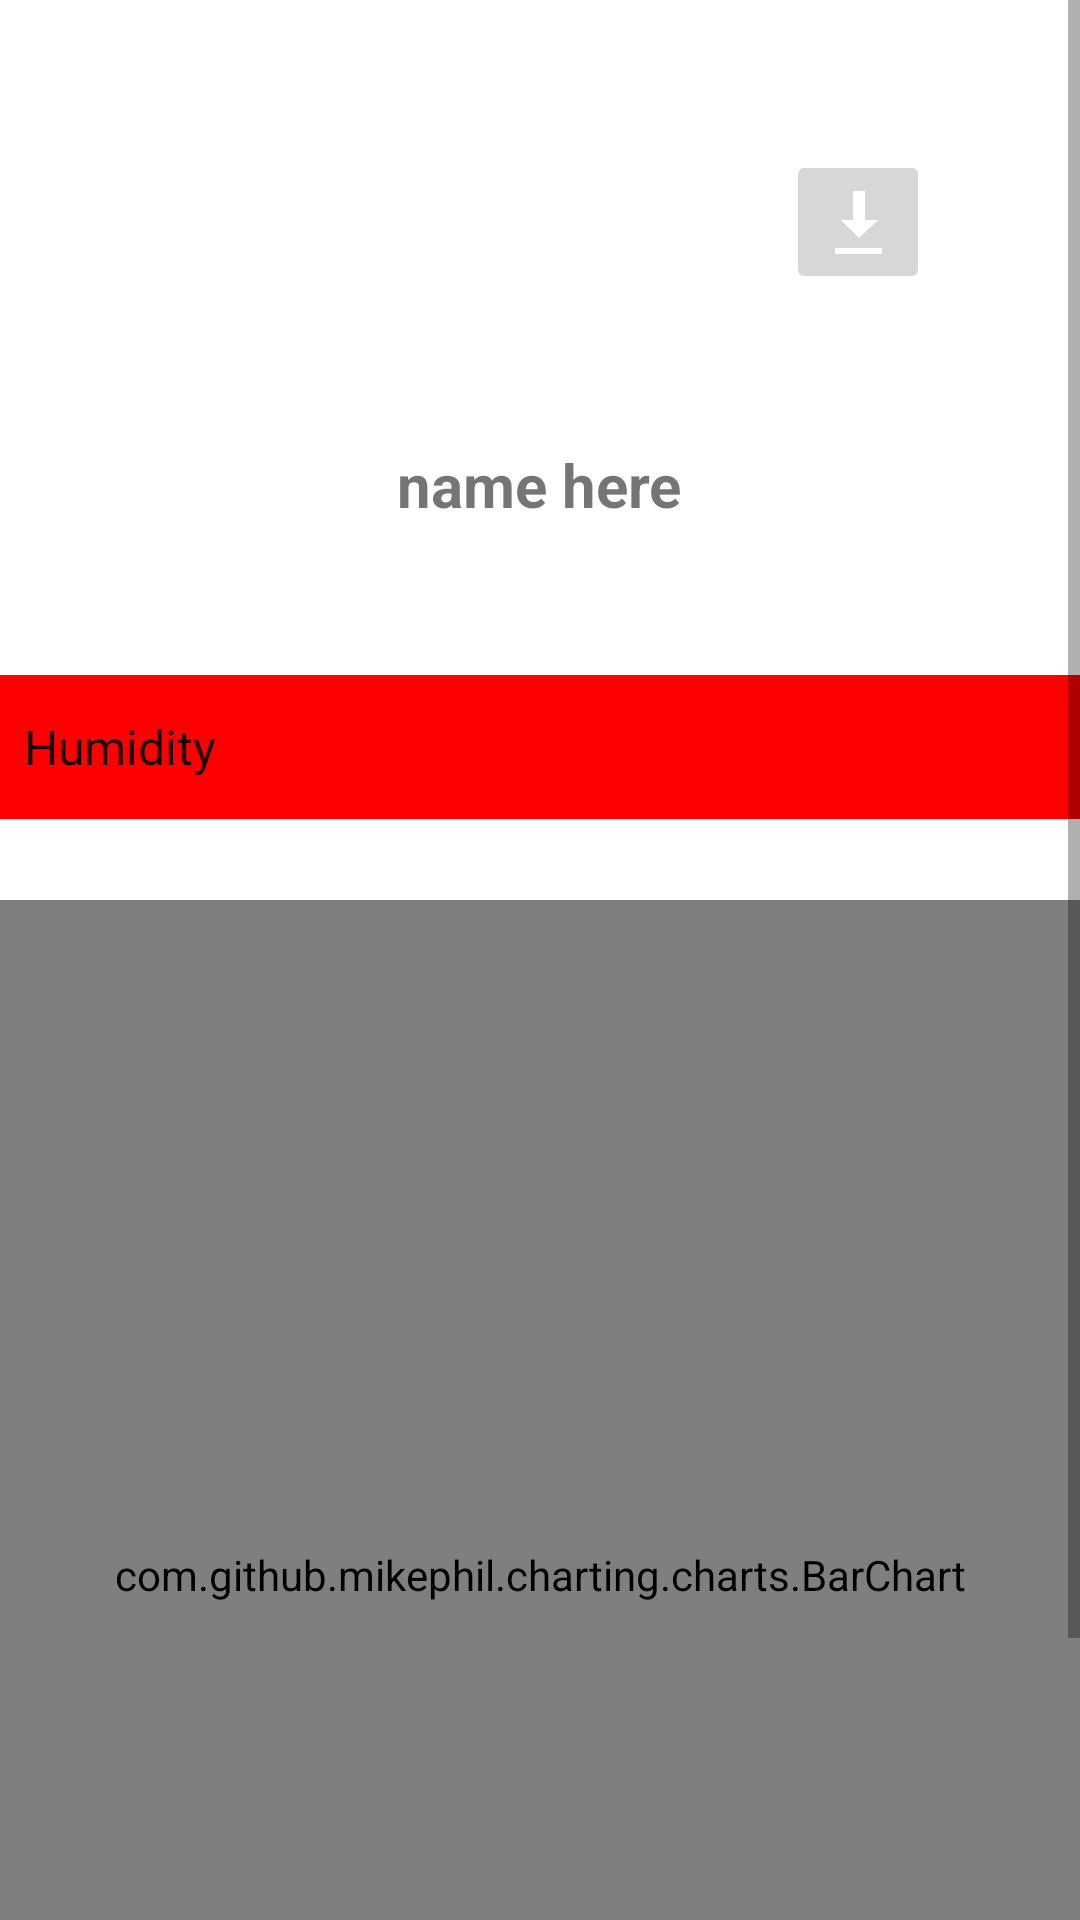

Icons on this 1080*1920 Android screen, each with its box as (x1,y1,x2,y2):
download: (798,168,918,276)
